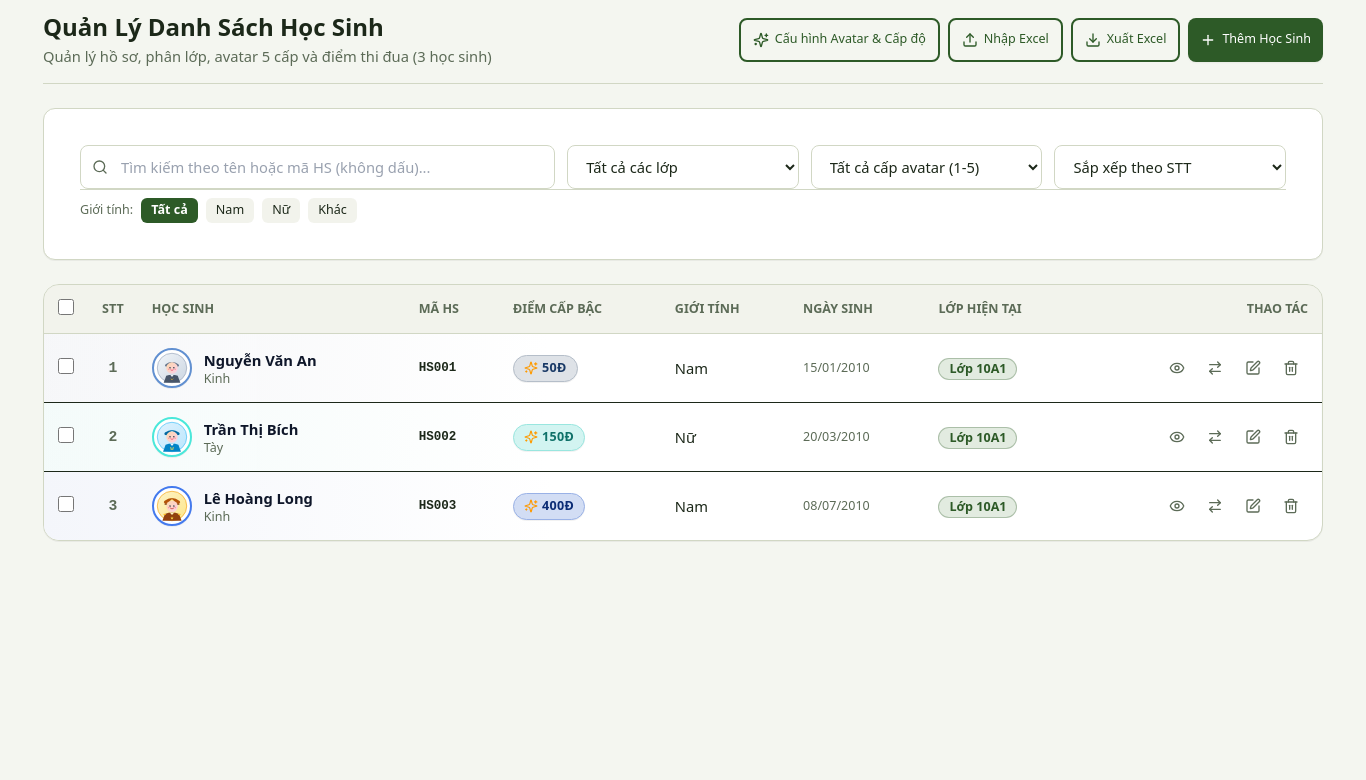
Test: StudentsPage UI & 5-Level Avatar Integration Tests (FEAT-AVATAR-002) › 6. Shows floating bulk action bar when students are selected
Expected: the row with test id "student-row-st-1" is shown, [44,334,1322,403]
# checkbox[0] is select all header, checkbox[1] is st-1, checkbox[2] is st-2
Click the checkbox in the row of "Nguyễn Văn An" at (66,366), box [58,358,74,374]
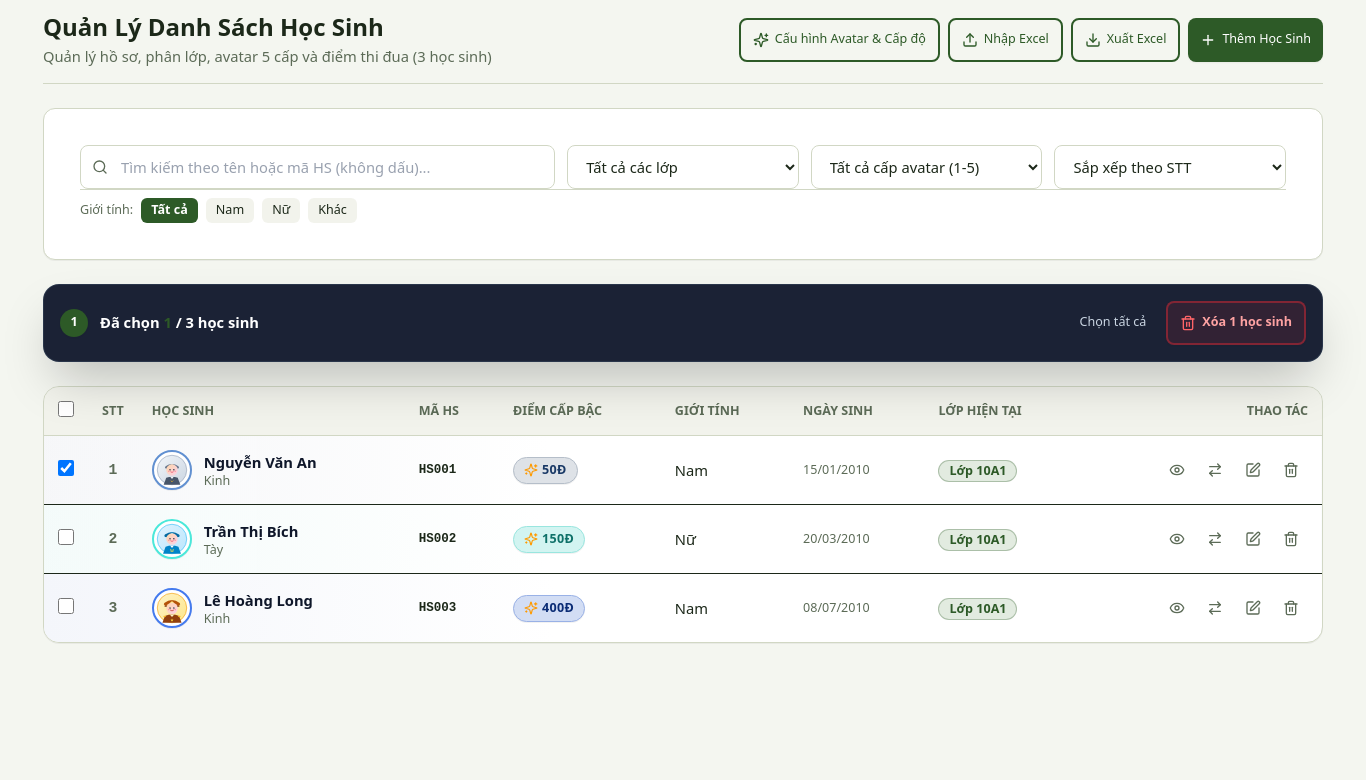
Click the checkbox in the row of "Trần Thị Bích" at (66,537), box [58,529,74,545]
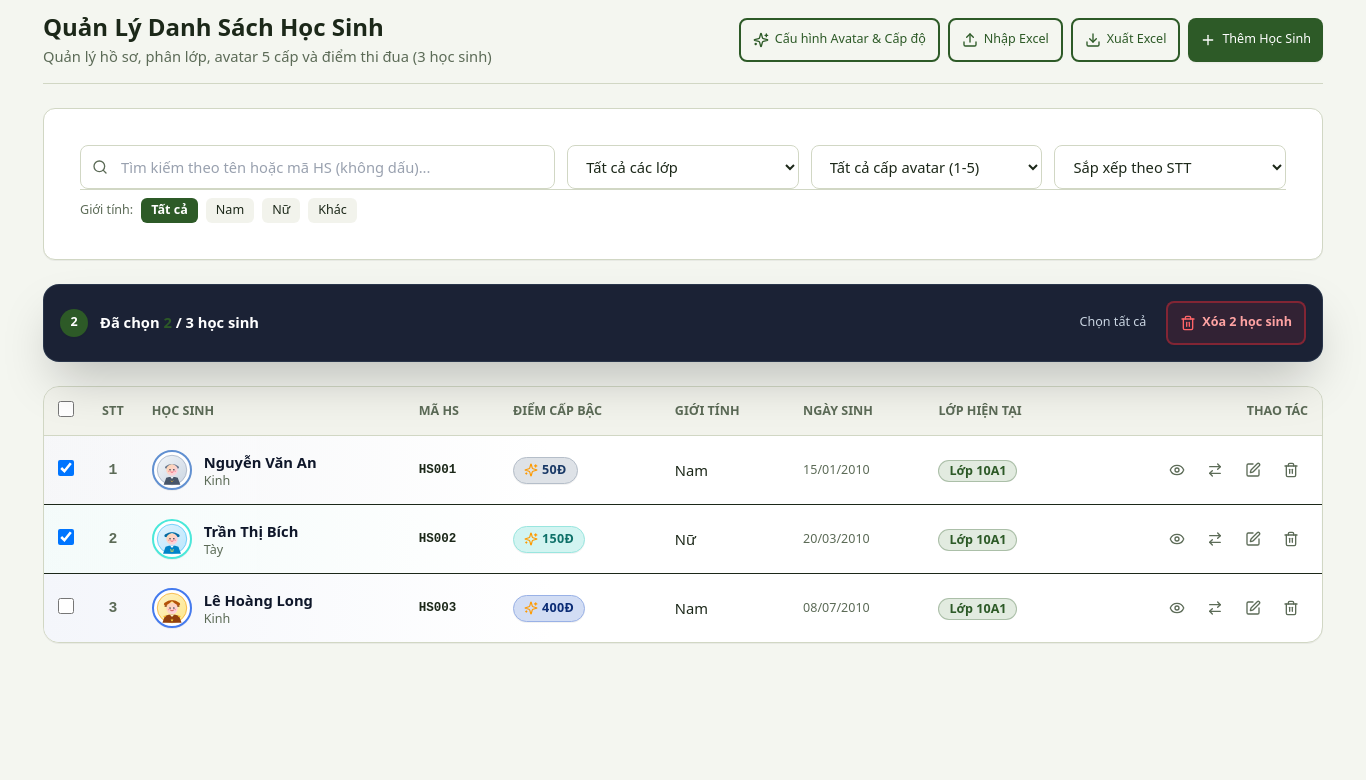
Result: the element with test id "bulk-action-bar" is shown at [43,284,1323,362]
Result: the text "Xóa 2 học sinh" is shown at [1202,314,1292,331]
